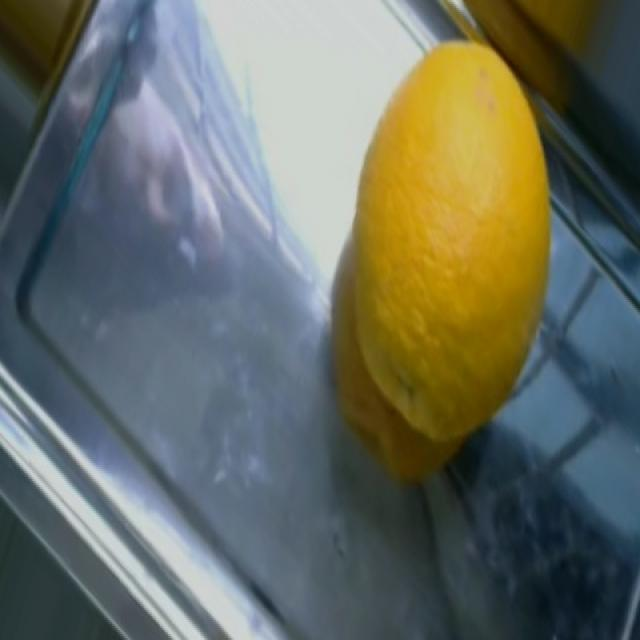Fruit: (332, 18, 563, 362), (1, 0, 126, 111), (460, 0, 640, 62)
